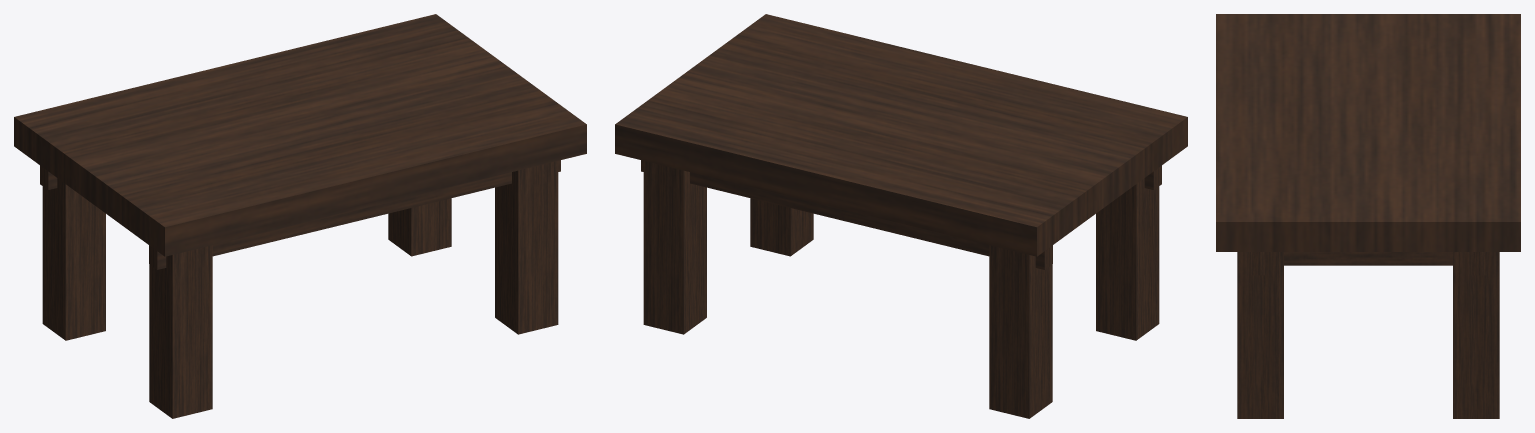
Rendered from Table_3.fbx.
The picture shows the model from 3 angles, left to right: view 1: azimuth 30°, elevation 25°; view 2: azimuth 150°, elevation 25°; view 3: azimuth 270°, elevation 25°; orthographic projection.
Visible parts, largest first — view 1: polySurface1514; view 2: polySurface1514; view 3: polySurface1514.
Part boxes in pixels (x1,y1,x2,y2): polySurface1514: [14, 14, 586, 418]; polySurface1514: [615, 14, 1187, 418]; polySurface1514: [1216, 14, 1520, 418].
Bounding box in the file's own units: 1.05 × 0.4843 × 0.65.
